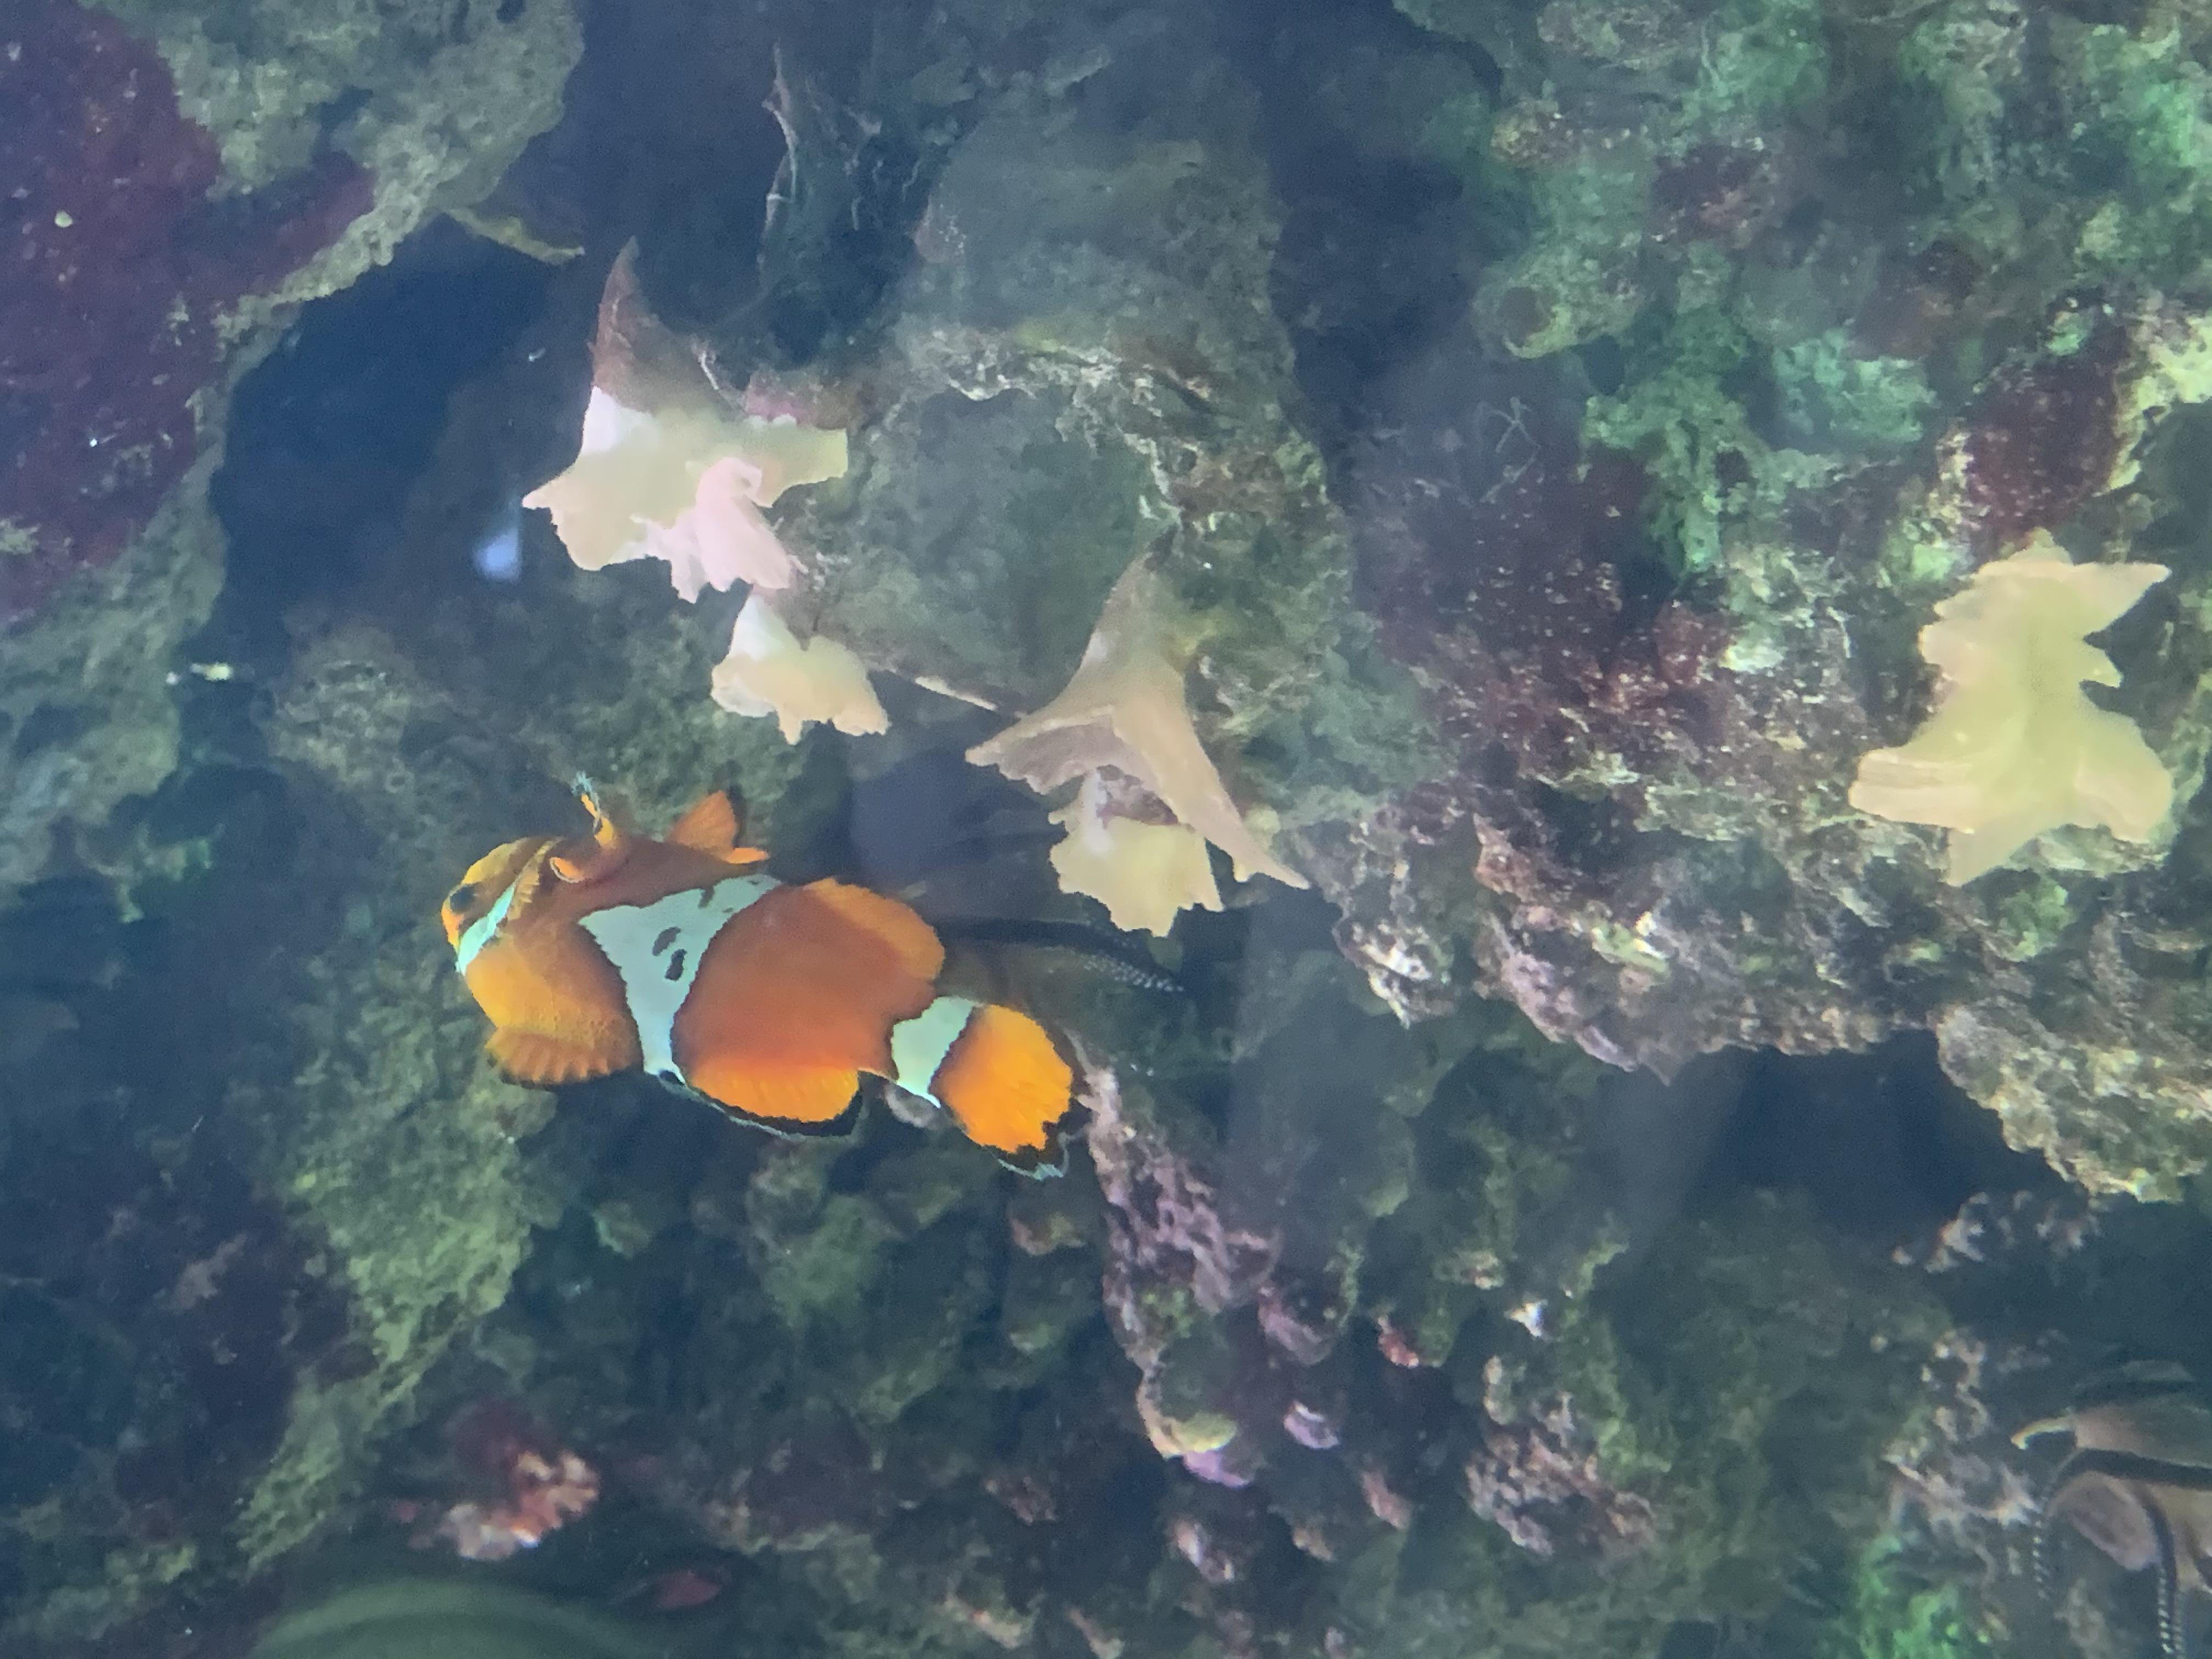fish: (434, 774, 1101, 1180)
